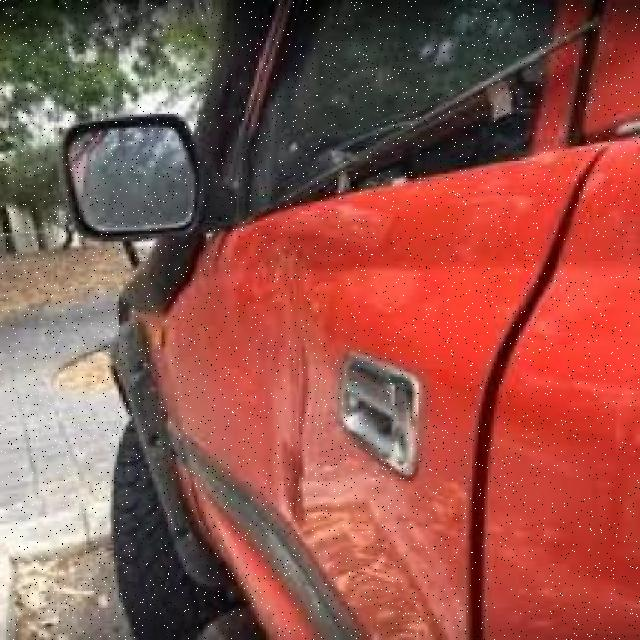damage: (230, 244, 328, 523)
